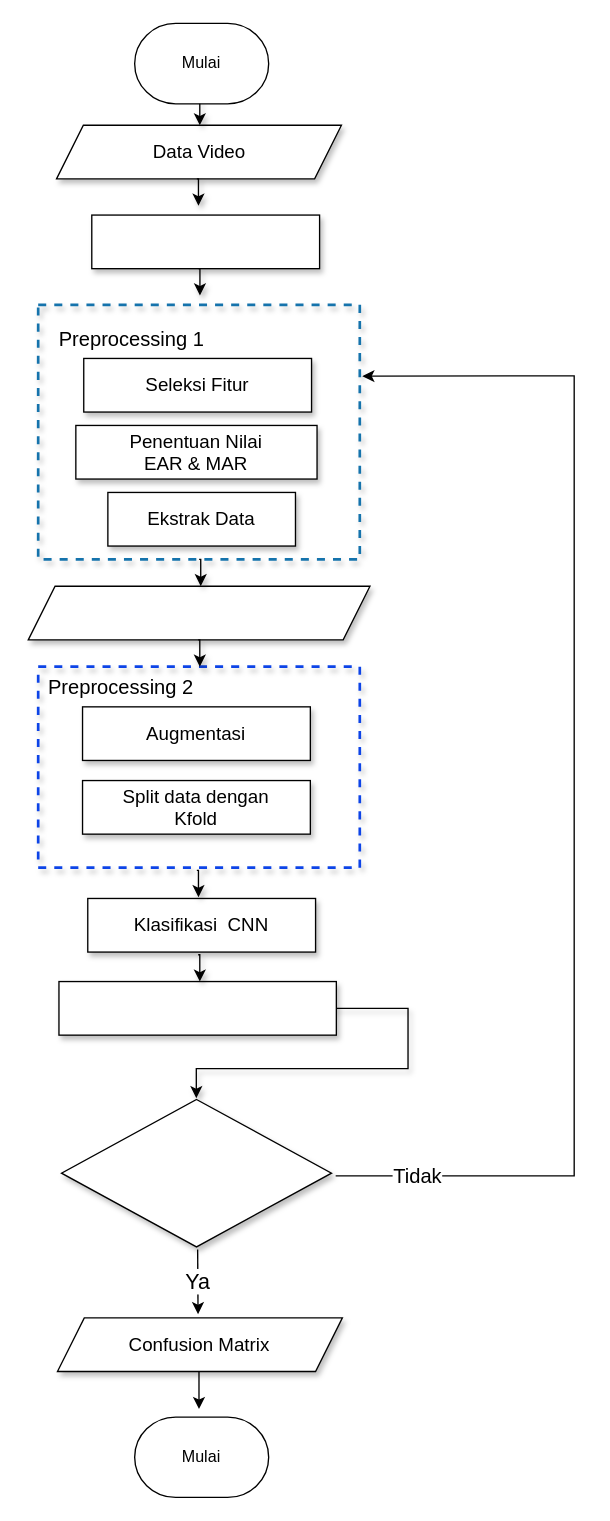
Image size: 610x1521. Some labels were removed from this diagram. Each missing label, with the centre of its shape:
Analisis dan Evaluasi dengan Confusion Matriks: point 198,1010
Data Gambar: point 200,614
Ekplorasi Data: point 206,243
Sesuai Kebutuhan ?: point 197,1174
